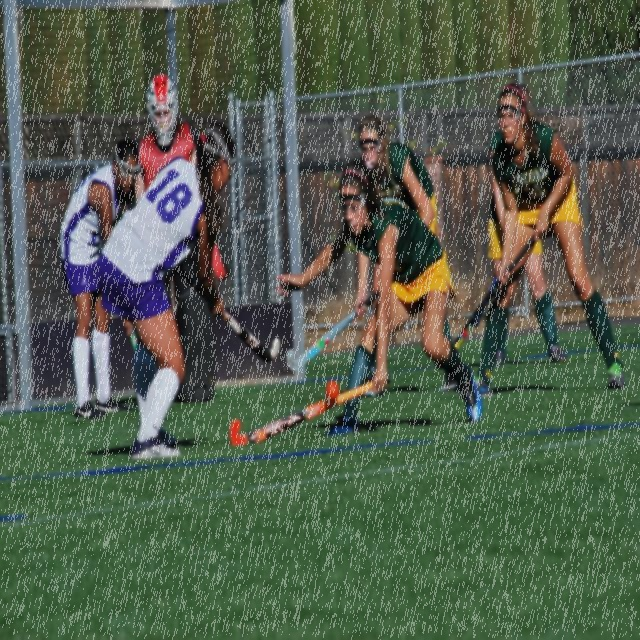pessoa: (272, 153, 488, 440), (459, 79, 632, 399), (96, 119, 242, 461), (358, 112, 470, 396), (58, 136, 142, 422), (484, 198, 568, 370), (133, 72, 199, 204)
